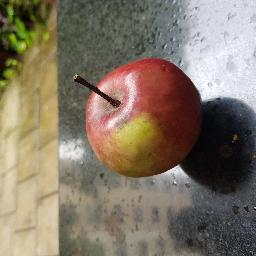Good_apple: (81, 55, 213, 179)
